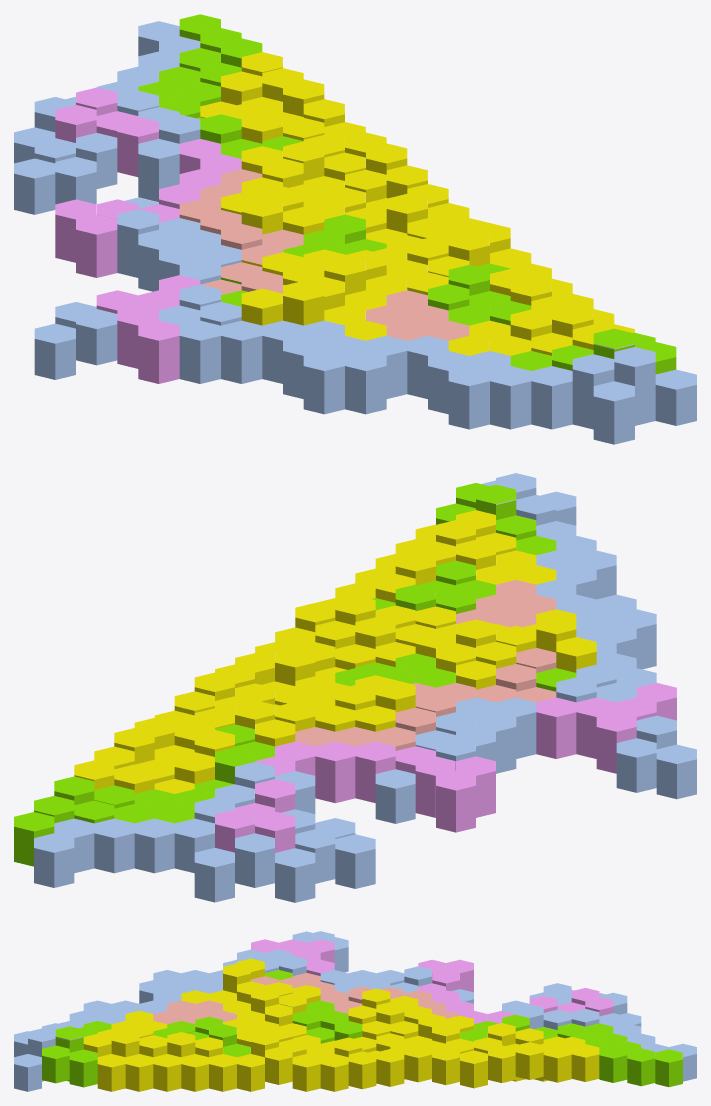
The model's file is GB_Hexagon_Grid.fbx.
3 views of the same model, one above another, from view 1: azimuth 30°, elevation 25°; view 2: azimuth 150°, elevation 25°; view 3: azimuth 270°, elevation 25° (orthographic). The views are drawn at different scales.
Parts seen in each view (by area): view 1: polySurface173; view 2: polySurface173; view 3: polySurface173.
Boxes of the visible parts, x1,y1,x2,y2 form: polySurface173: [14, 14, 696, 444]; polySurface173: [14, 473, 696, 902]; polySurface173: [14, 931, 696, 1091].
Bounding box in the file's own units: 2150 × 372 × 4244.
